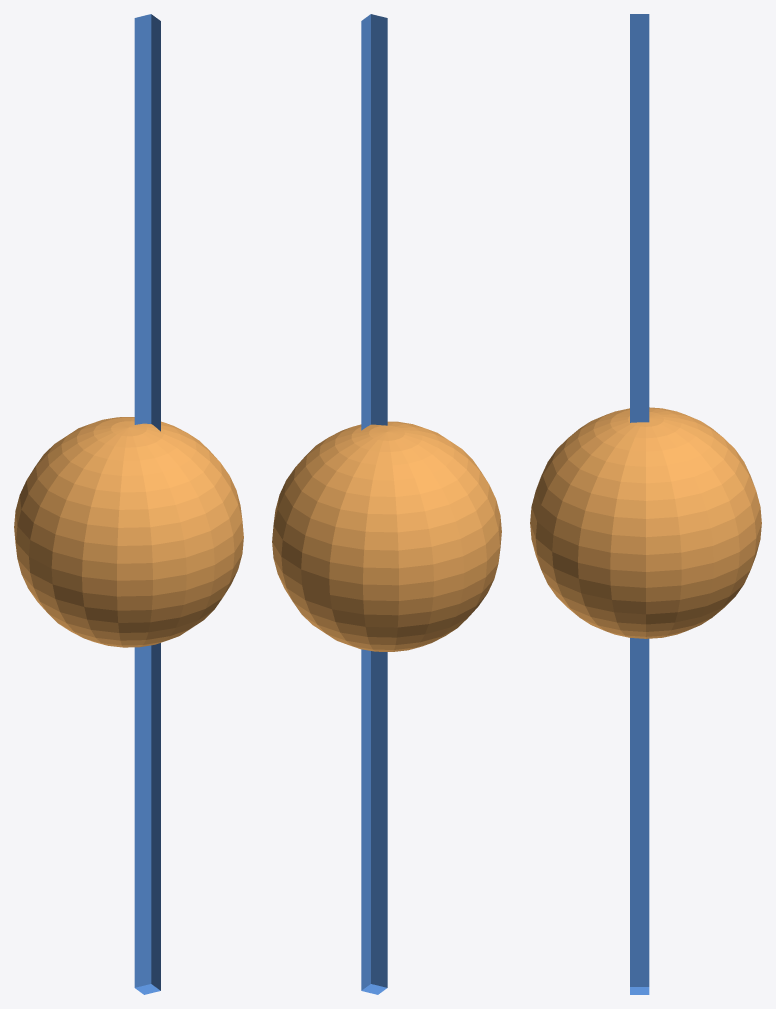
Rendered from soccer_mocap_pickup_kick_MWVOPT_20260330000550_20260330000550_1_1775213765.glb.
3 renders of one model, left to right at view 1: azimuth 30°, elevation 25°; view 2: azimuth 150°, elevation 25°; view 3: azimuth 270°, elevation 25°, orthographic.
Visible parts, largest first — view 1: prop_ScoccerBall_A_1, bvh_bone_Hips_to_Spine; view 2: prop_ScoccerBall_A_1, bvh_bone_Hips_to_Spine; view 3: prop_ScoccerBall_A_1, bvh_bone_Hips_to_Spine.
Boxes of the visible parts, <box> form: prop_ScoccerBall_A_1: <box>14,417,243,647</box>; bvh_bone_Hips_to_Spine: <box>134,14,160,994</box>; prop_ScoccerBall_A_1: <box>272,421,501,651</box>; bvh_bone_Hips_to_Spine: <box>361,14,387,994</box>; prop_ScoccerBall_A_1: <box>530,407,761,638</box>; bvh_bone_Hips_to_Spine: <box>630,14,649,994</box>.
Size of the model in its own units: 0.216 by 1 by 0.216.
